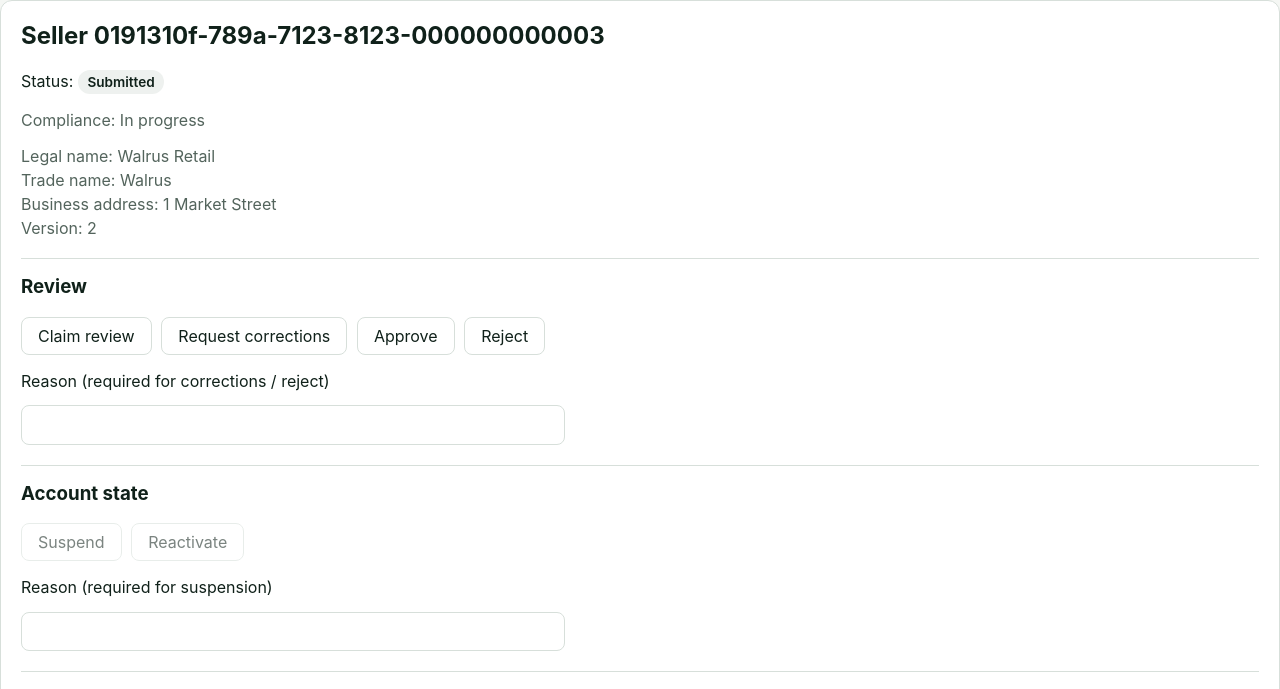
Test: AdminSellerDetail › shows a safe conflict notice when a review decision fails server-side
Click the button "Approve". click: click(406, 336)
box: [357,317,455,355]
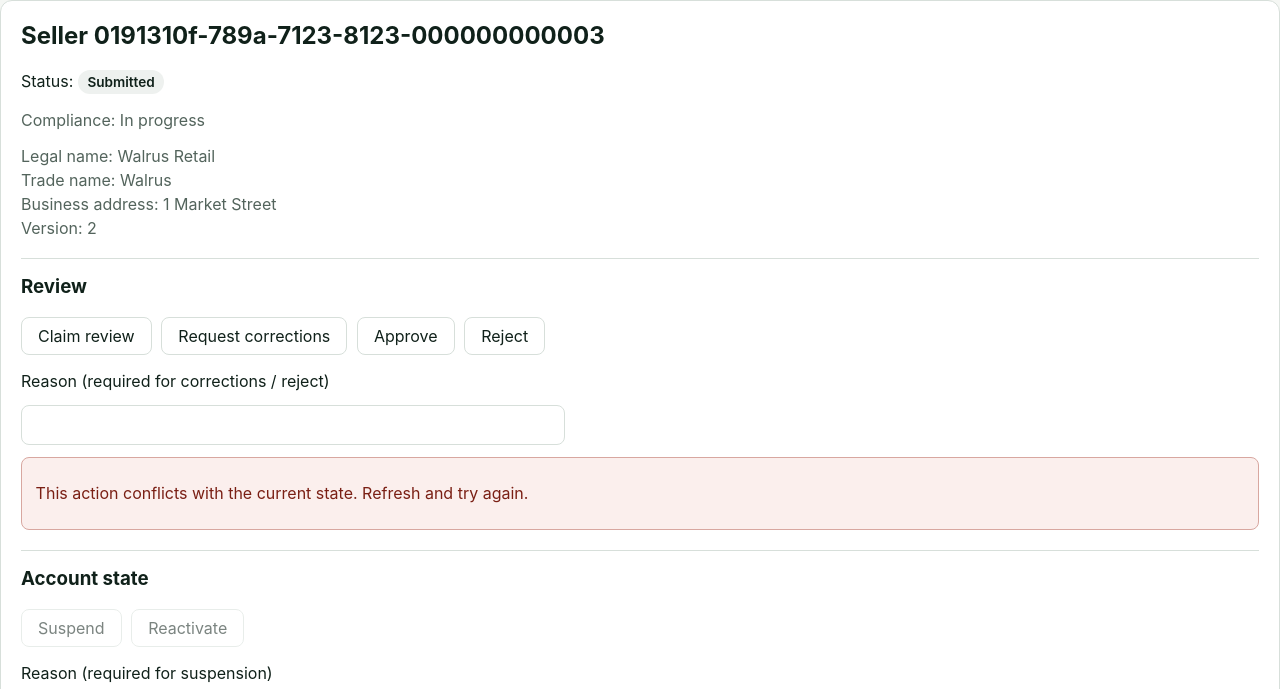
Check: the text "This action conflicts with the current state. Refresh and try again." is shown, box [36,483,528,503]
